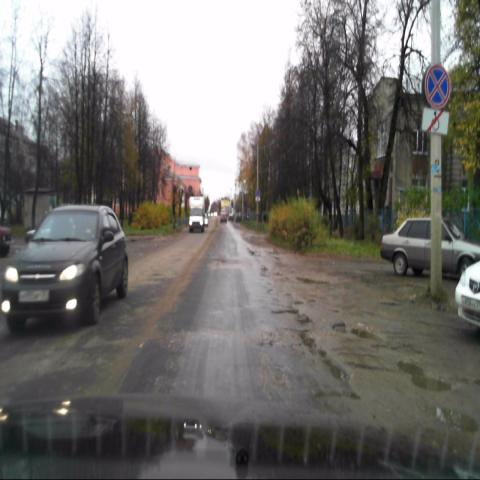8_18: (421, 108, 450, 135)
